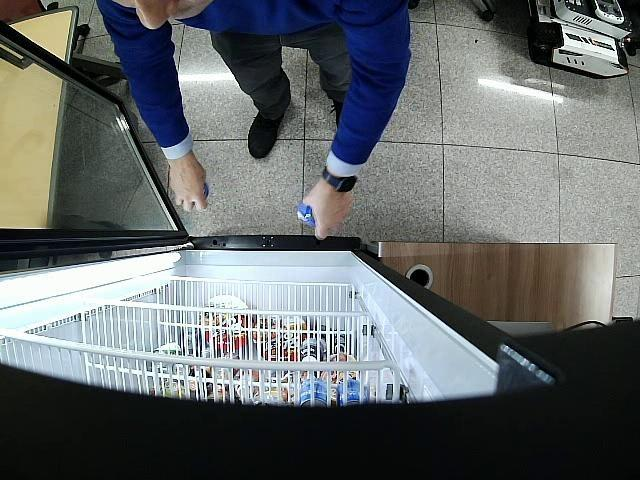13_pocariSweat: (298, 202, 316, 225)
